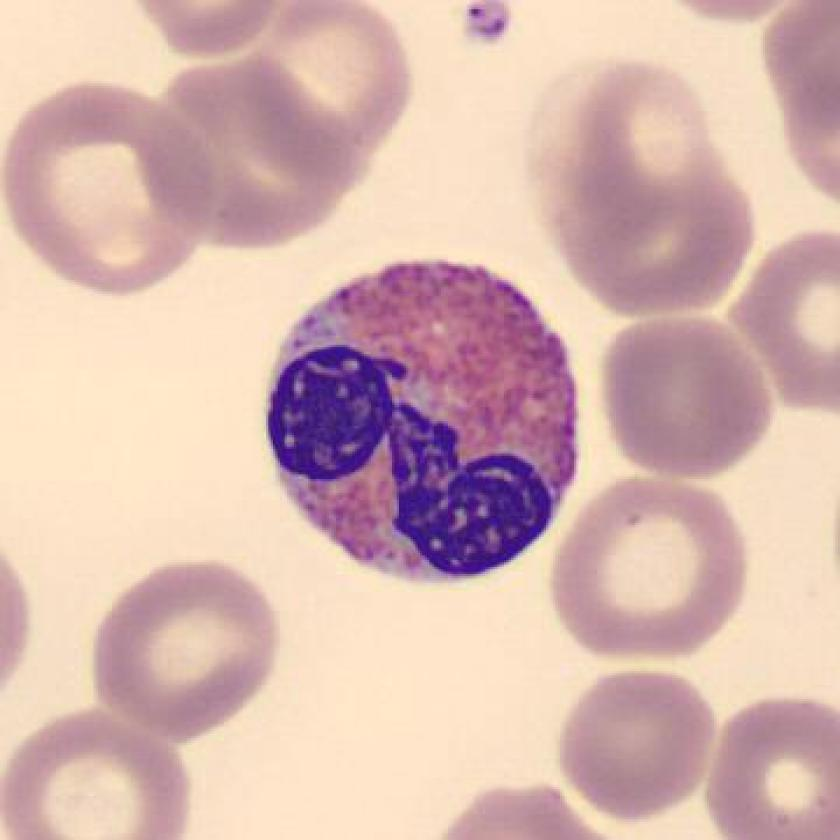eosinophil: (251, 247, 594, 594)
